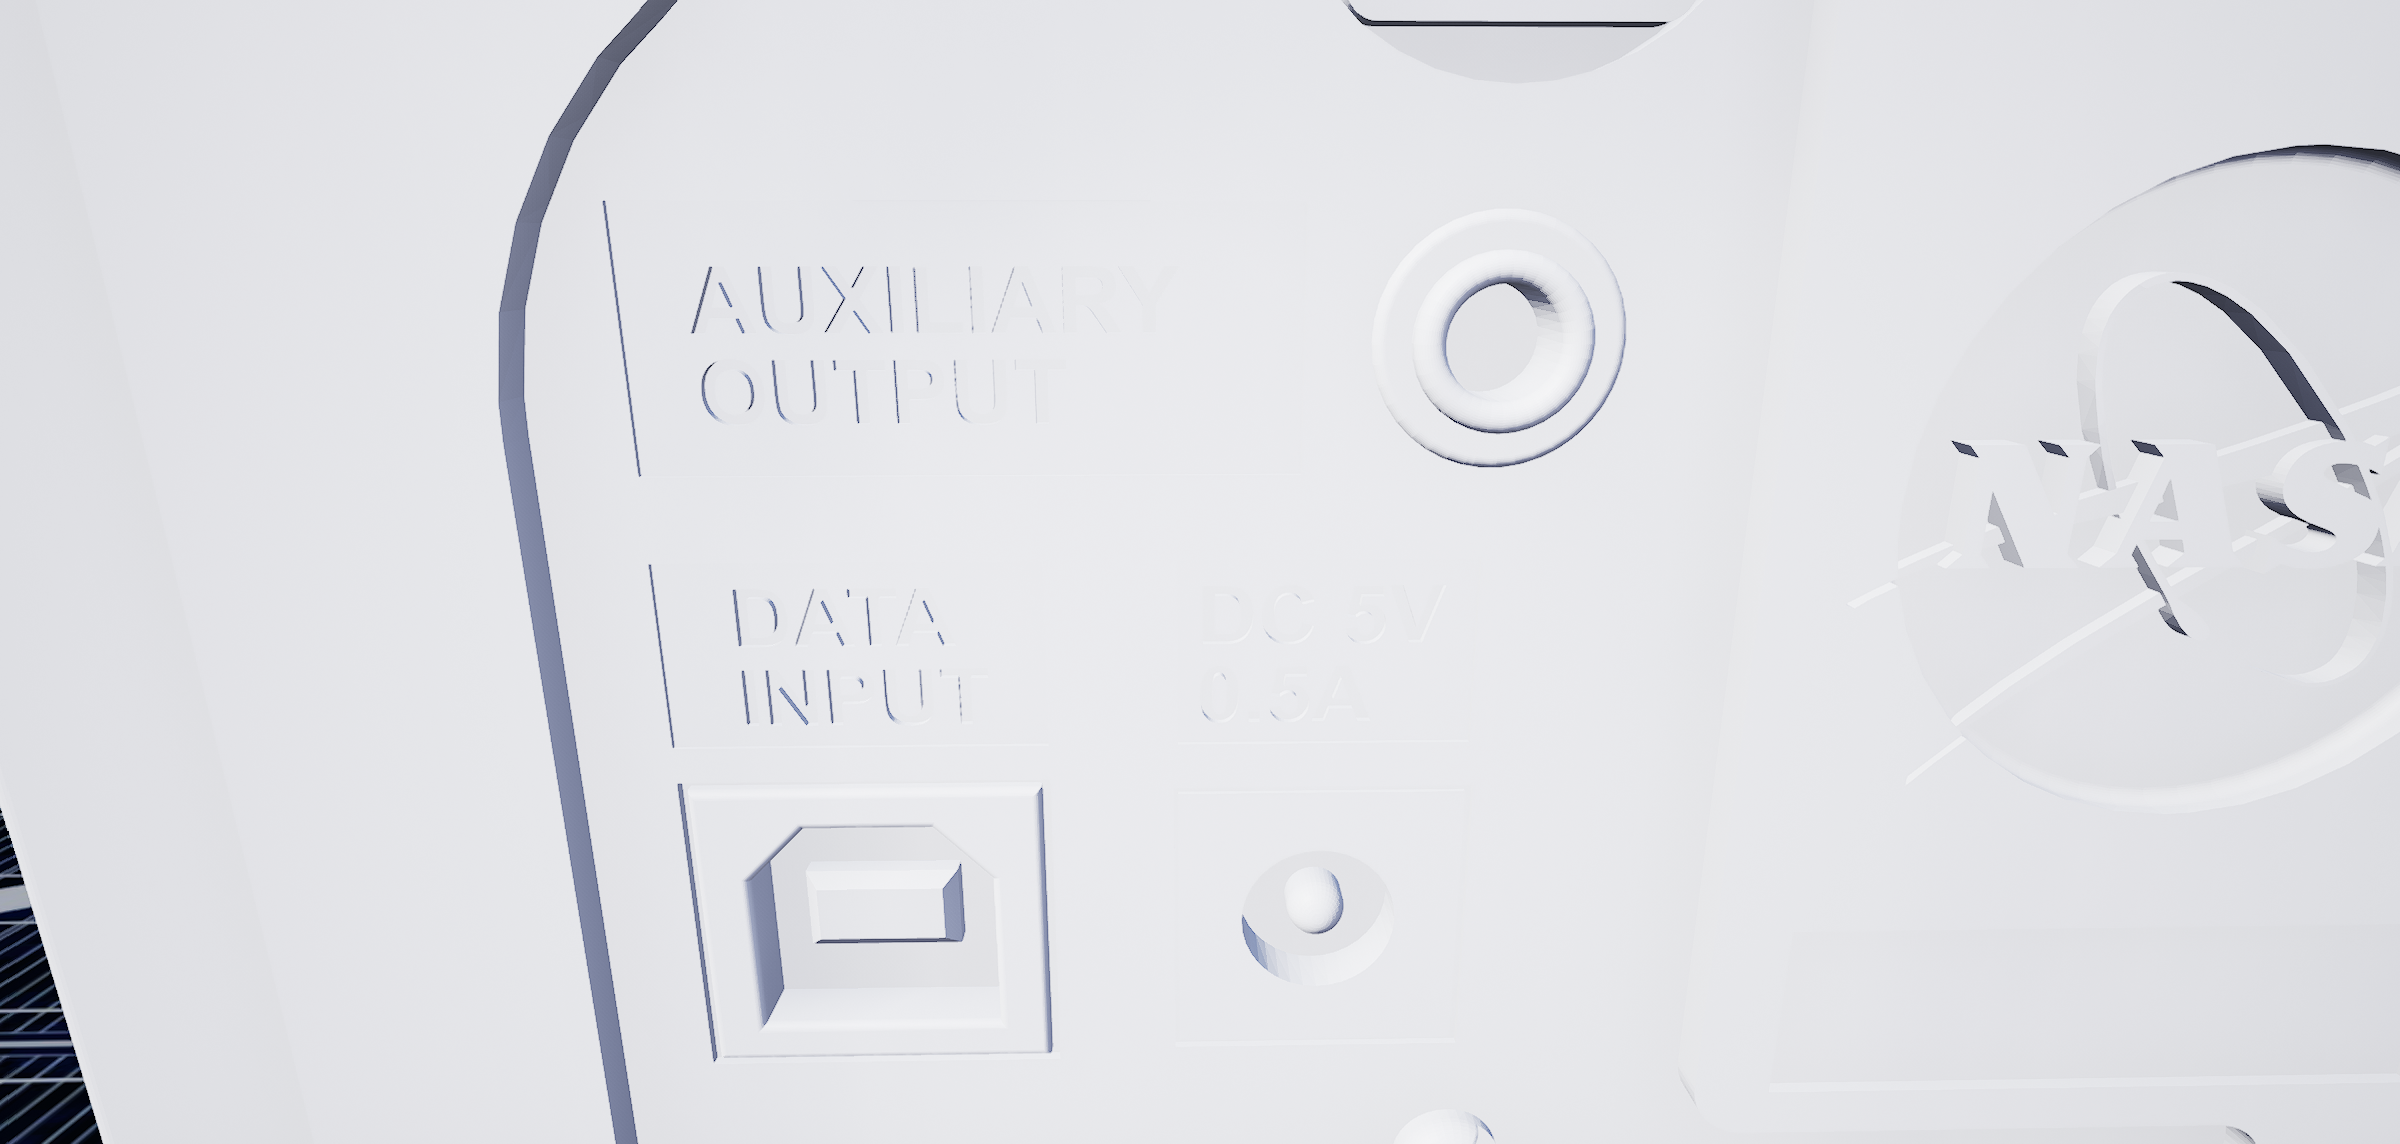aux: (1359, 199, 1655, 493)
dc: (1209, 815, 1407, 1014)
usb: (732, 806, 1022, 1041)
